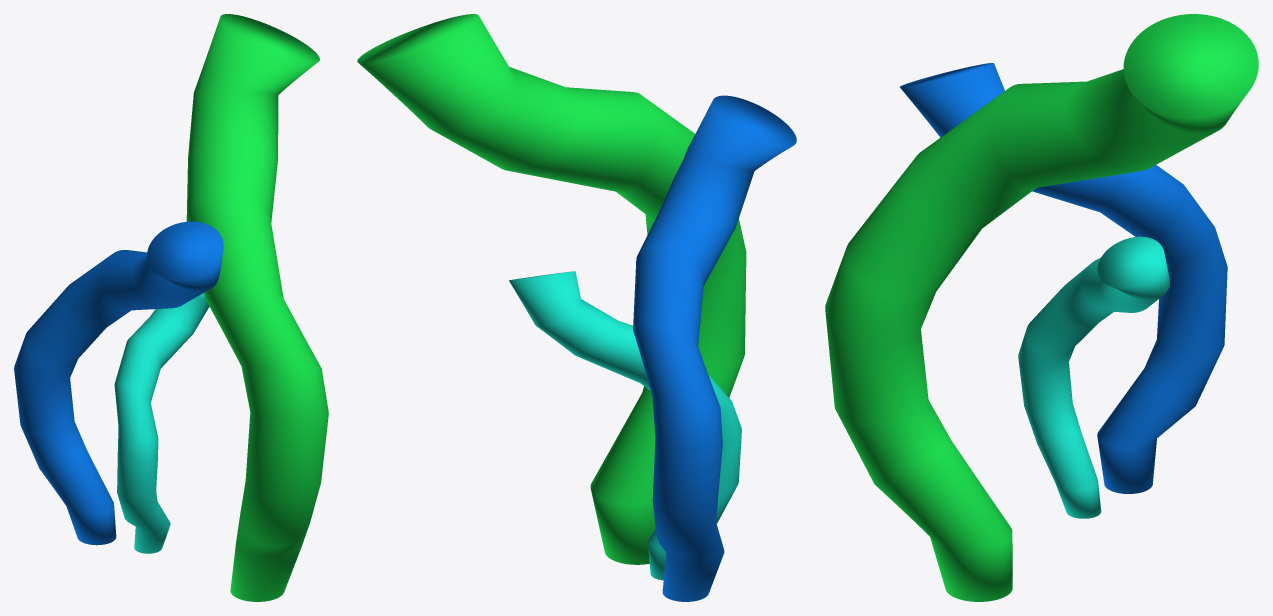
Rendered from corals2.fbx.
3 renders of one model, left to right at view 1: azimuth 30°, elevation 25°; view 2: azimuth 150°, elevation 25°; view 3: azimuth 270°, elevation 25°, orthographic. The views are drawn at different scales.
Visible parts, largest first — view 1: Cylinder.002, Cylinder.001, Cylinder; view 2: Cylinder.002, Cylinder.001, Cylinder; view 3: Cylinder.002, Cylinder.001, Cylinder.
Part boxes in pixels (left/top/right/bottom): Cylinder.002: left=186, top=14, right=328, bottom=601; Cylinder.001: left=14, top=221, right=223, bottom=545; Cylinder: left=114, top=293, right=209, bottom=553; Cylinder.002: left=357, top=14, right=746, bottom=564; Cylinder.001: left=633, top=95, right=796, bottom=601; Cylinder: left=509, top=271, right=741, bottom=580; Cylinder.002: left=825, top=14, right=1258, bottom=601; Cylinder.001: left=900, top=63, right=1227, bottom=493; Cylinder: left=1018, top=236, right=1169, bottom=518.
Size of the model in its own units: 1202 by 1903 by 1231.
